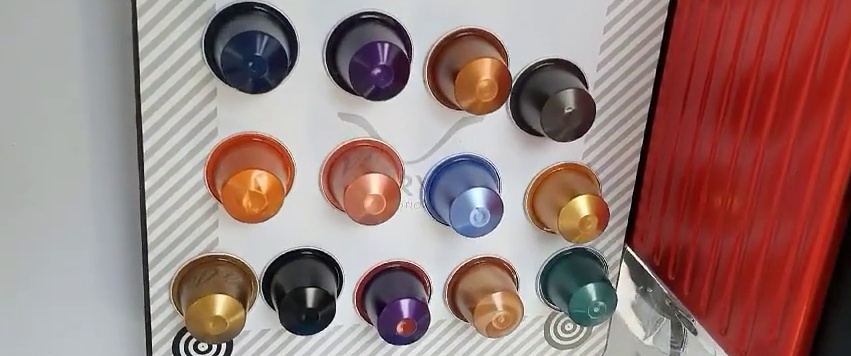capsule_1: (198, 4, 300, 94)
capsule_10: (260, 247, 346, 335)
capsule_11: (350, 261, 433, 345)
capsule_12: (438, 252, 528, 342)
capsule_13: (534, 242, 619, 328)
capsule_2: (322, 11, 414, 104)
capsule_3: (419, 23, 513, 118)
capsule_4: (507, 57, 596, 147)
capsule_5: (205, 132, 298, 226)
capsule_6: (319, 137, 404, 226)
capsule_7: (420, 156, 506, 240)
capsule_8: (523, 159, 612, 245)
capsule_9: (170, 253, 259, 336)
